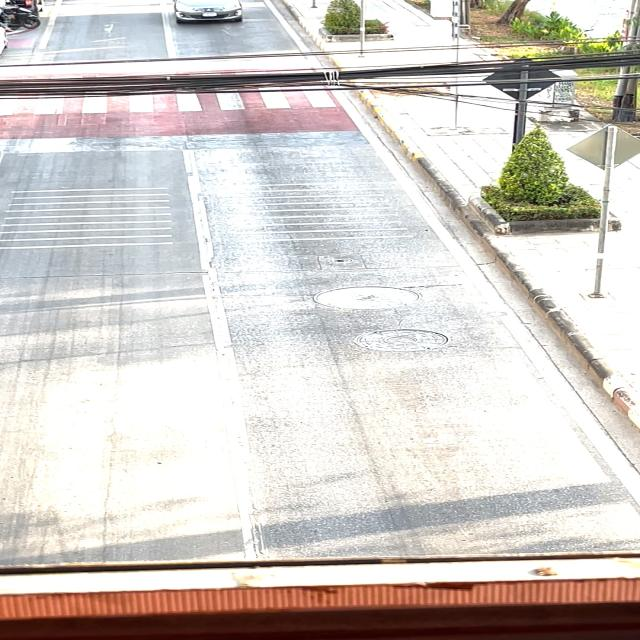car: (152, 0, 255, 37)
